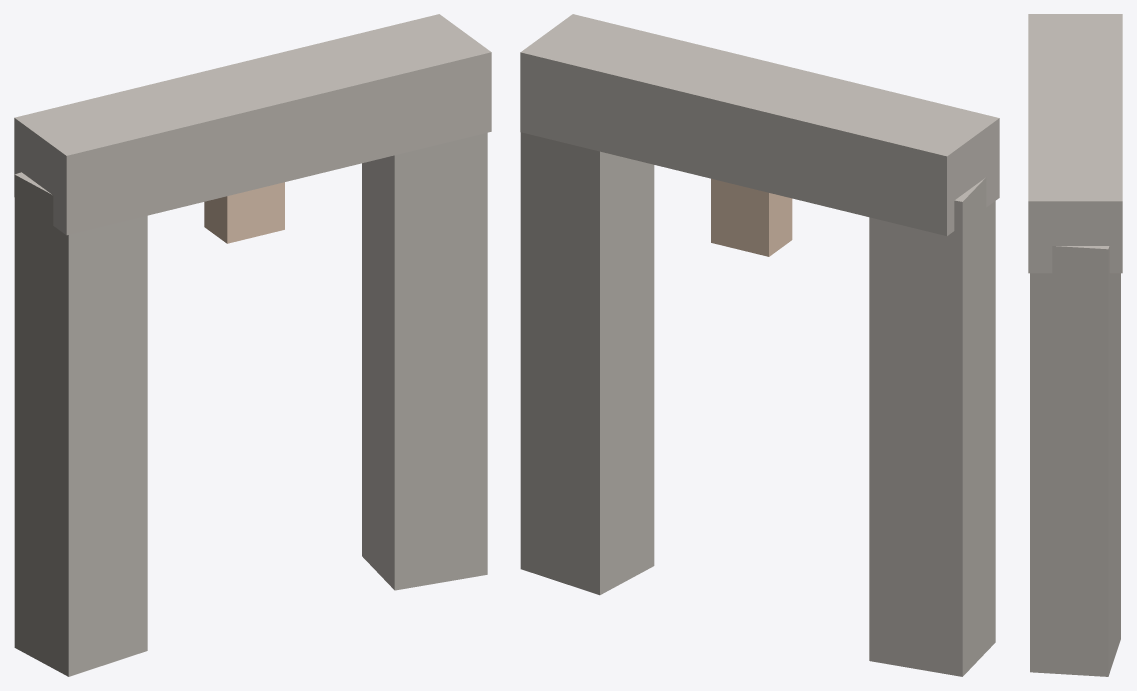
File: arch.glb
3 views of the same model, side by side, from view 1: azimuth 30°, elevation 25°; view 2: azimuth 150°, elevation 25°; view 3: azimuth 270°, elevation 25° (orthographic). The views are drawn at different scales.
Parts seen in each view (by area): view 1: Arch; view 2: Arch; view 3: Arch.
Boxes of the visible parts, box(x1,y1,x2,y2) form: Arch: box(14, 14, 491, 676); Arch: box(520, 14, 999, 676); Arch: box(1028, 14, 1122, 676).
Bounding box in the file's own units: 2.43 × 2.76 × 0.5.
